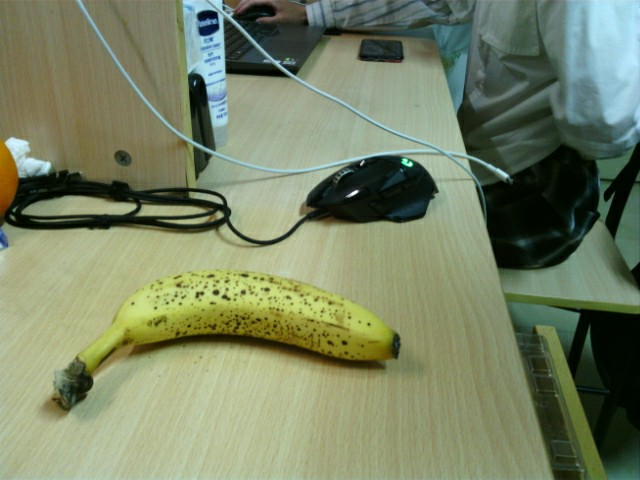normal_banana: (52, 270, 401, 409)
